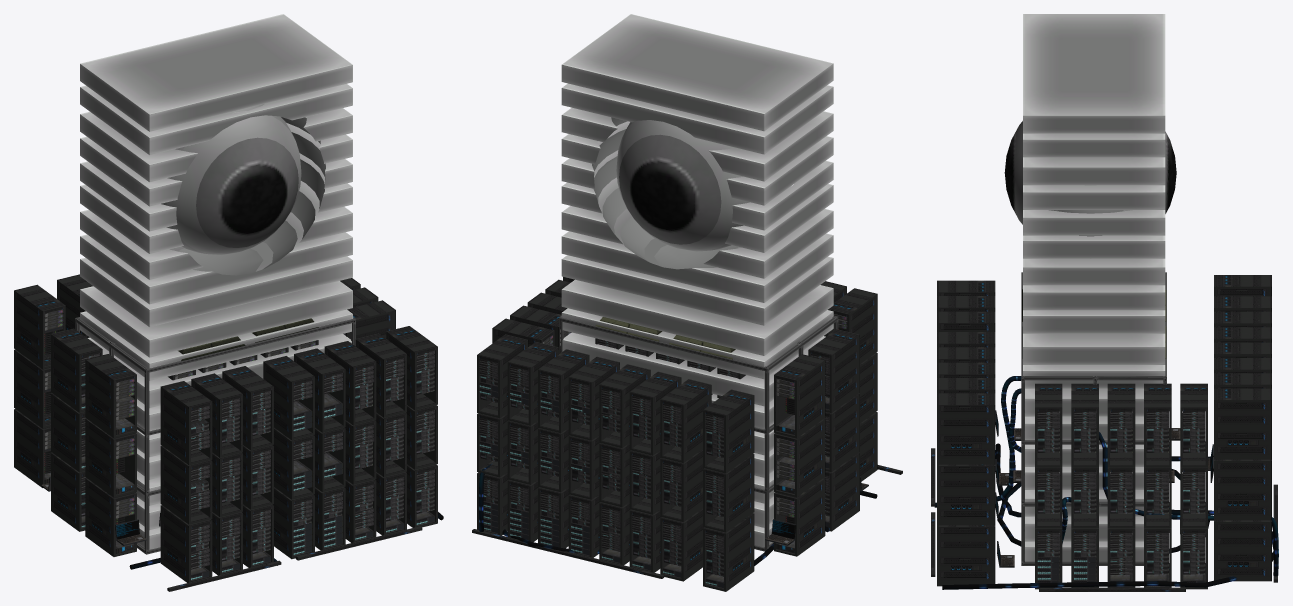
The model's file is aicore.DAE.
3 views of the same model, side by side, from view 1: azimuth 30°, elevation 25°; view 2: azimuth 150°, elevation 25°; view 3: azimuth 270°, elevation 25° (orthographic). The views are drawn at different scales.
Visible parts, largest first — view 1: Icon, Object002, Servers, Object001, Eye, Object003, Object004; view 2: Icon, Object002, Servers, Object001, Eye, Cable; view 3: Icon, Object002, Servers, Object001, Cable, Eye.
Part boxes in pixels (x1,y1,x2,y2): Icon: (80,14,352,549); Object002: (14,274,437,465); Servers: (14,317,437,591); Object001: (14,349,437,524); Eye: (161,104,301,254); Object003: (191,452,342,511); Object004: (191,393,342,451); Icon: (561,14,833,547); Object002: (477,277,877,473); Servers: (472,316,902,591); Object001: (477,352,877,532); Eye: (616,120,749,251); Cable: (478,463,877,565); Icon: (1023,14,1165,561); Object002: (937,275,1271,467); Servers: (931,272,1277,591); Object001: (937,459,1271,528); Cable: (934,376,1278,589); Eye: (1004,121,1176,236).
Bounding box in the file's own units: 3361 × 4892 × 3417.
